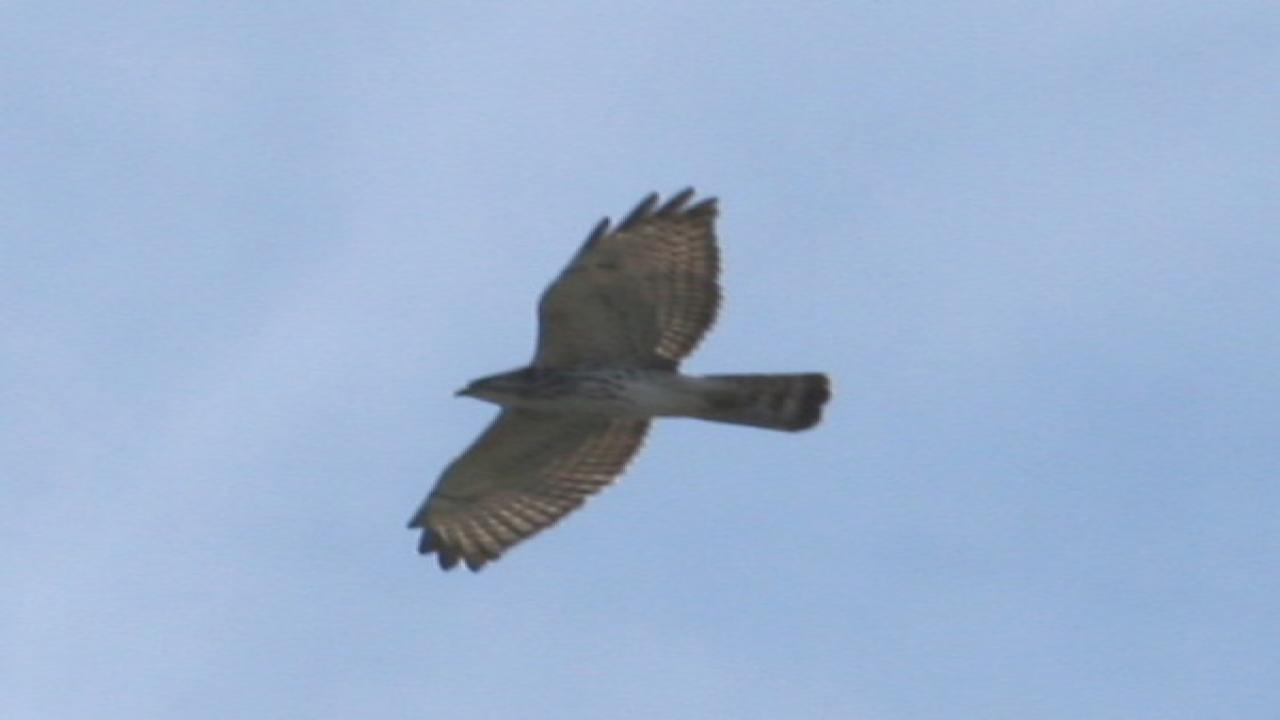Bird: (388, 180, 848, 582)
